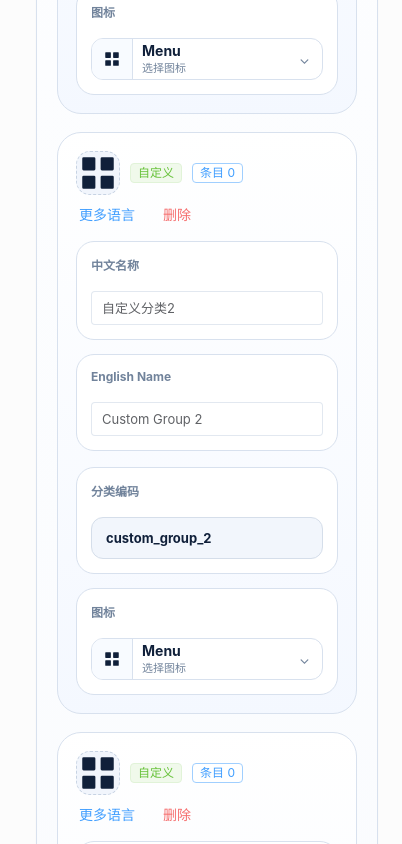
Test case: SystemMenuManagement › shows an empty resource state when the selected category has no entries
(page scrolled)
Click the element with test id "category-item-custom_group_2". click: (75, 423)
box: [57,132,357,714]
(page scrolled)
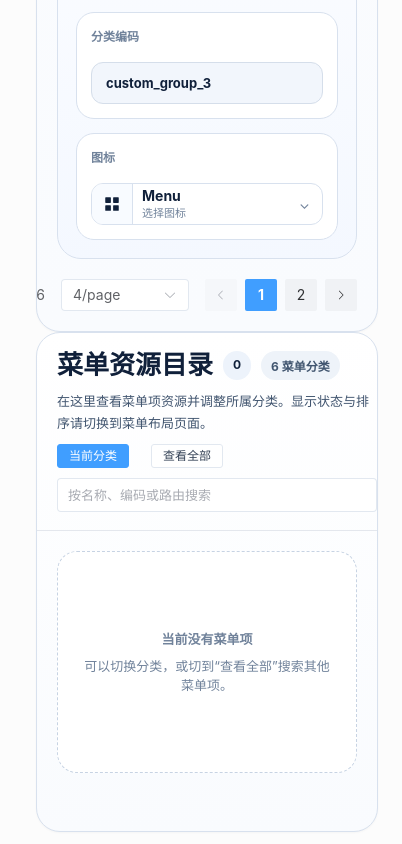
Check: the element with class "entry-empty" is shown, box [57,551,357,773]
